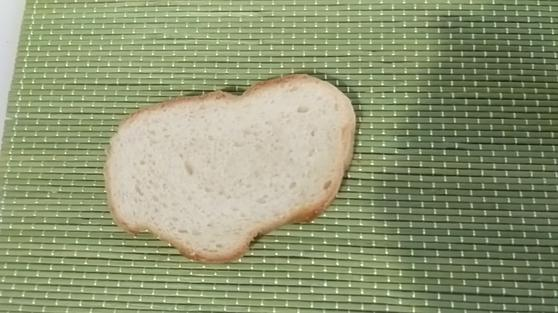white_bread: (109, 69, 359, 263)
